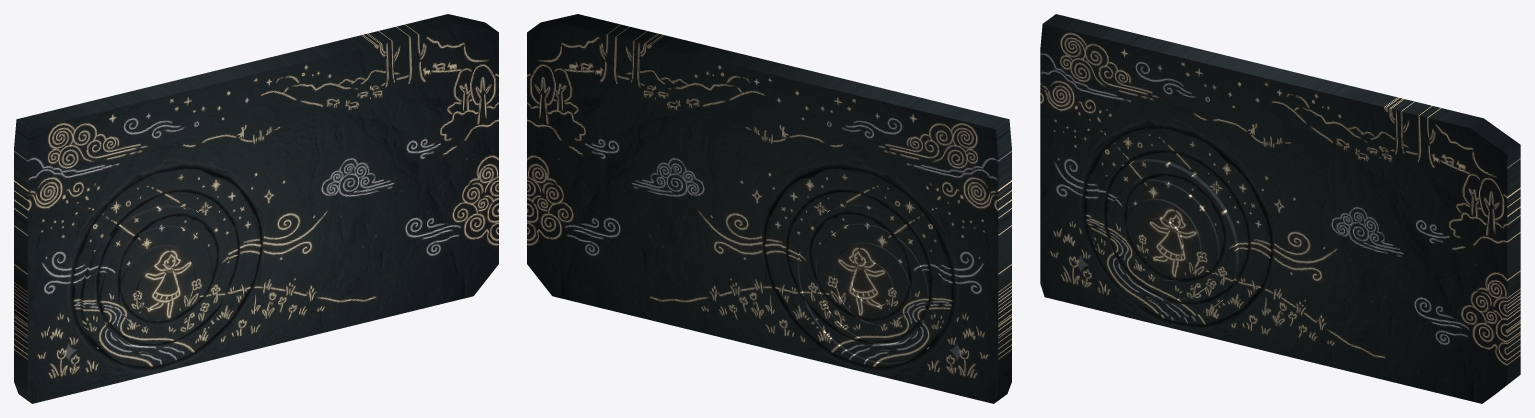
File: Eurydice_MuralPuzzle_01_CaveRiver.obj
The picture shows the model from 3 angles, left to right: view 1: azimuth 30°, elevation 25°; view 2: azimuth 150°, elevation 25°; view 3: azimuth 330°, elevation 25°; orthographic projection.
Visible parts, largest first — view 1: Main_Wall, Ring_4_Outer, Ring_3_Middle, Ring_2_Inner, Ring_1_Center; view 2: Main_Wall, Ring_4_Outer, Ring_3_Middle, Ring_2_Inner, Ring_1_Center; view 3: Main_Wall, Ring_4_Outer, Ring_3_Middle, Ring_2_Inner, Ring_1_Center.
Part boxes in pixels (bbox=[...]): Main_Wall: bbox=[14, 14, 498, 403]; Ring_4_Outer: bbox=[80, 205, 229, 364]; Ring_3_Middle: bbox=[100, 225, 212, 345]; Ring_2_Inner: bbox=[118, 245, 195, 327]; Ring_1_Center: bbox=[136, 264, 177, 308]; Main_Wall: bbox=[527, 14, 1011, 403]; Ring_4_Outer: bbox=[799, 205, 945, 362]; Ring_3_Middle: bbox=[817, 223, 928, 343]; Ring_2_Inner: bbox=[834, 242, 910, 324]; Ring_1_Center: bbox=[852, 261, 893, 305]; Main_Wall: bbox=[1040, 14, 1520, 403]; Ring_4_Outer: bbox=[1091, 159, 1239, 317]; Ring_3_Middle: bbox=[1108, 179, 1219, 298]; Ring_2_Inner: bbox=[1125, 198, 1201, 280]; Ring_1_Center: bbox=[1142, 217, 1183, 261].
Size of the model in its own units: 8 by 4.47 by 0.505.
Materials: 1 (1 with a texture image).
